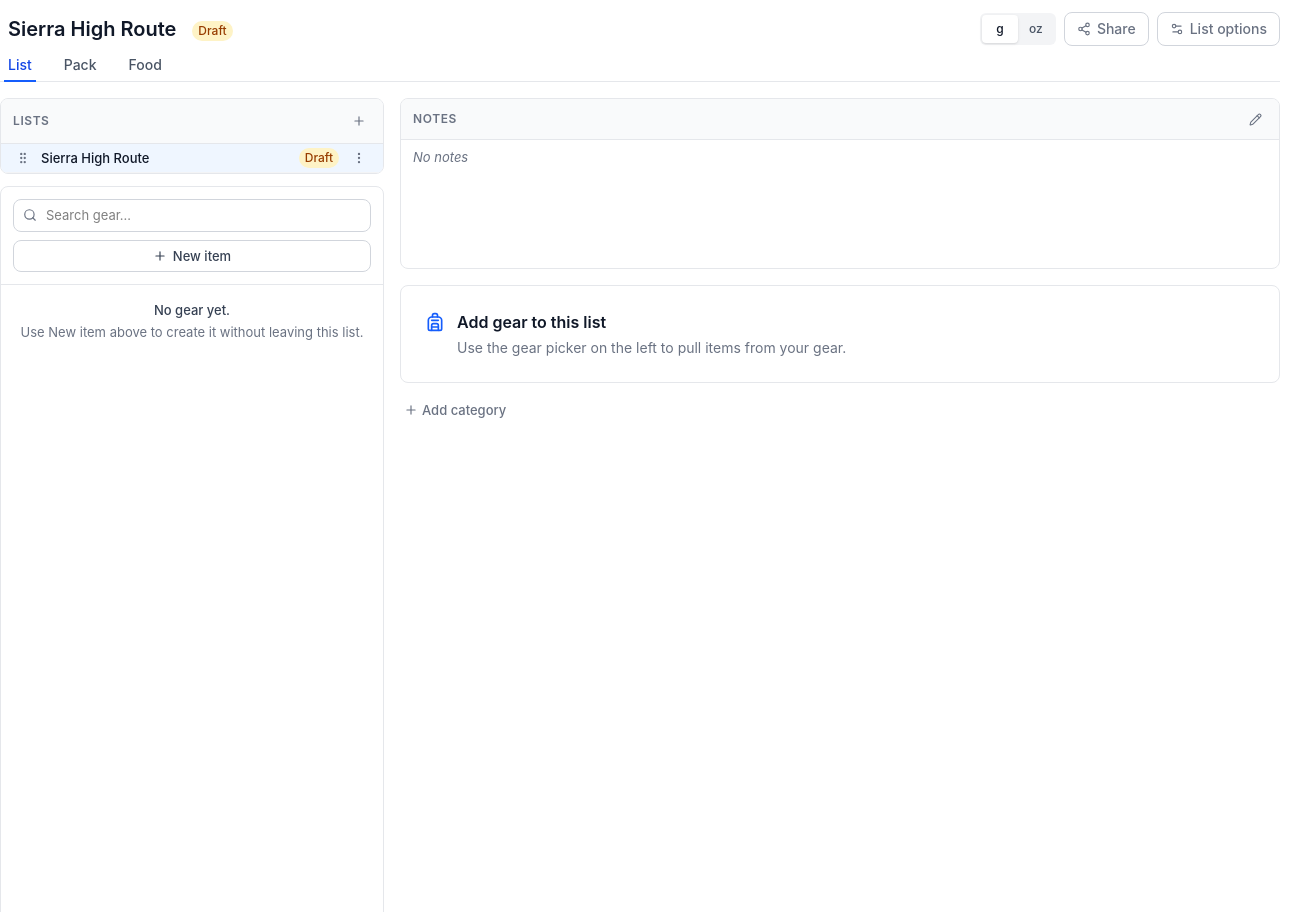
Test: in-list category creation › a starter category does not blank Pack’s empty state
The width and height of the screenshot is (1292, 912).
Check: the heading "Add gear to this list" is shown, box [457,312,606,332]
Click the button "Add category": (455, 410) [400,395,510,426]
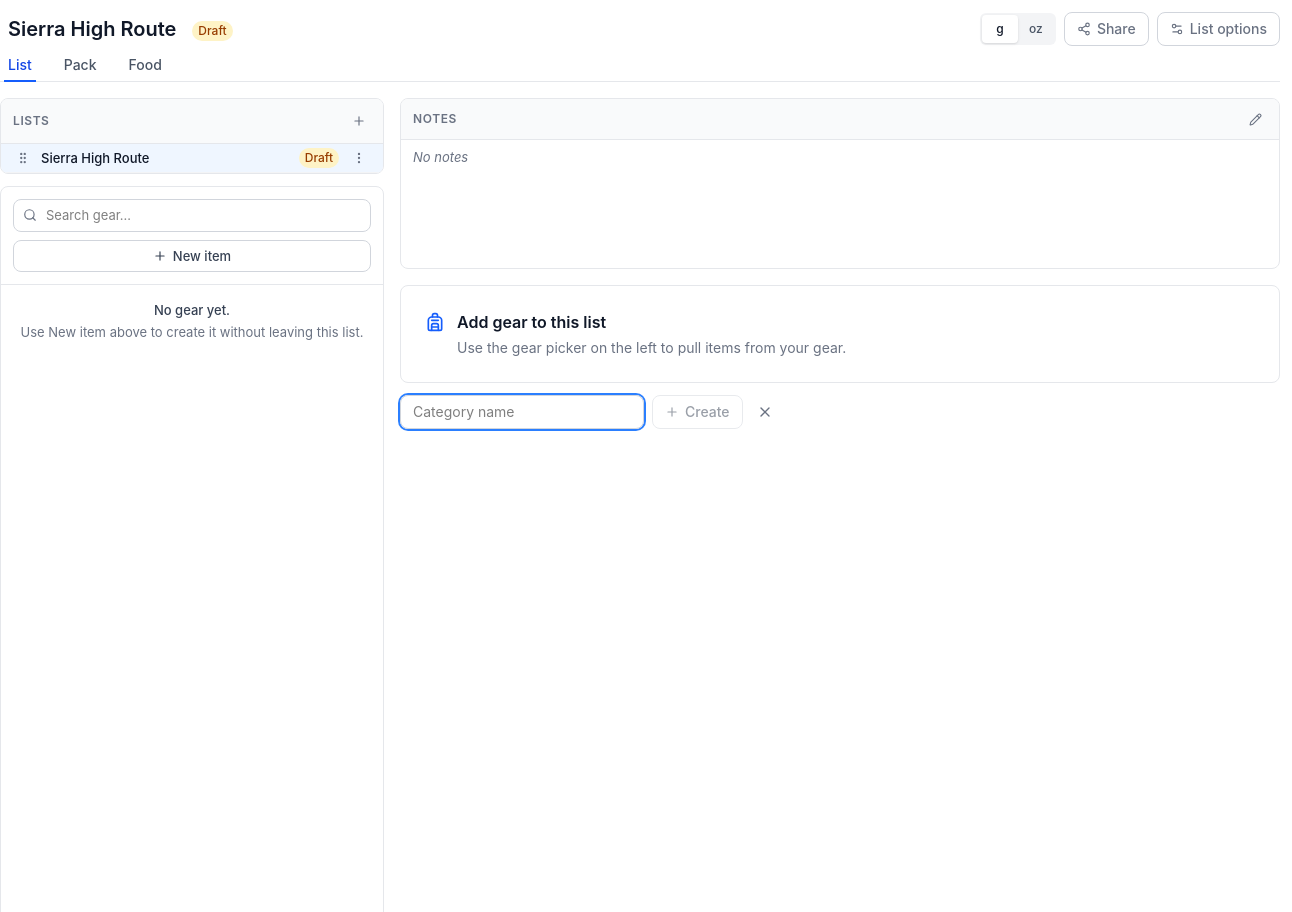
In the field labelled "Category name": (522, 412) [400,395,644,429], type "Shelter"
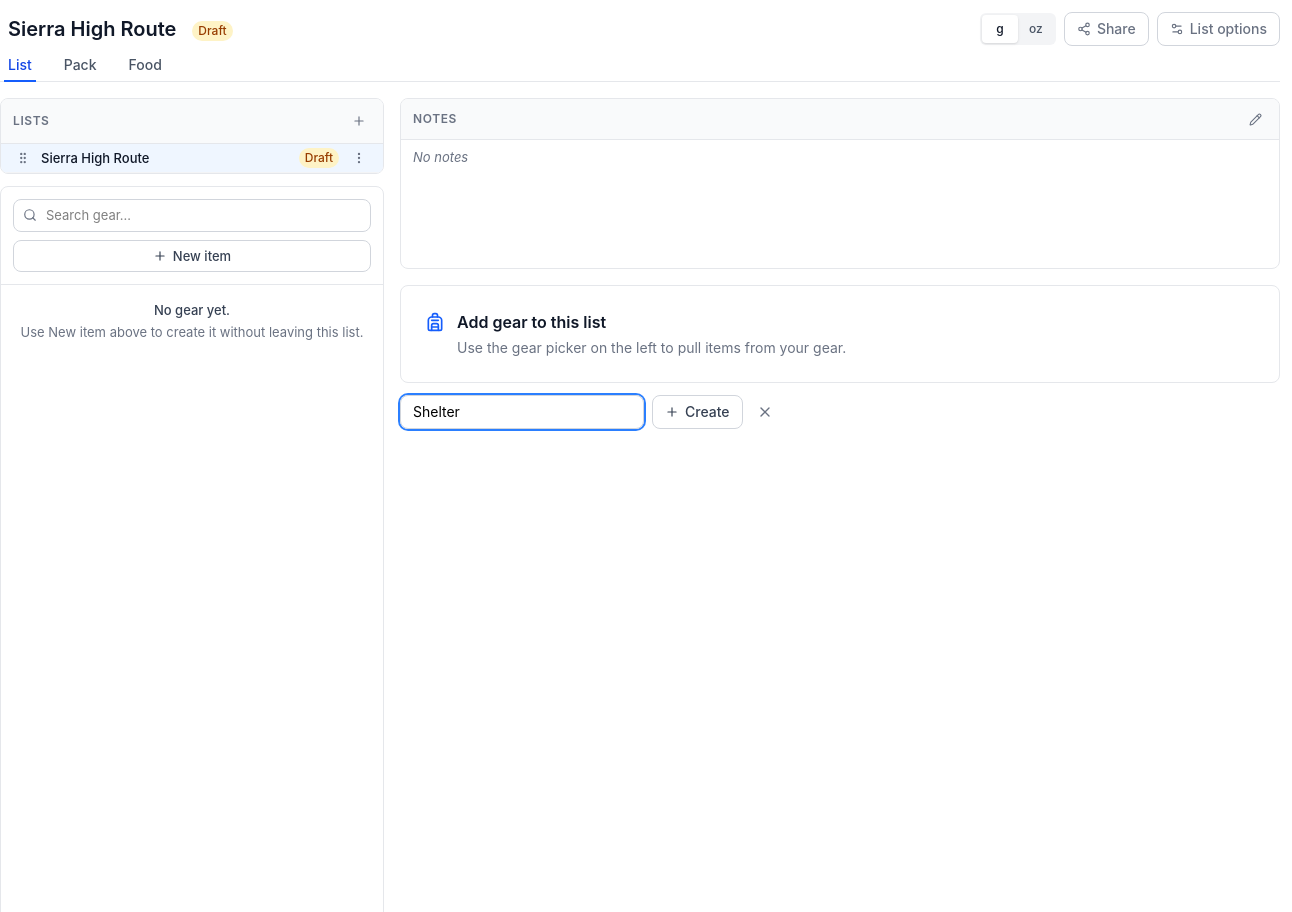
Press Enter in the field named "Category name", box [400,395,644,429]
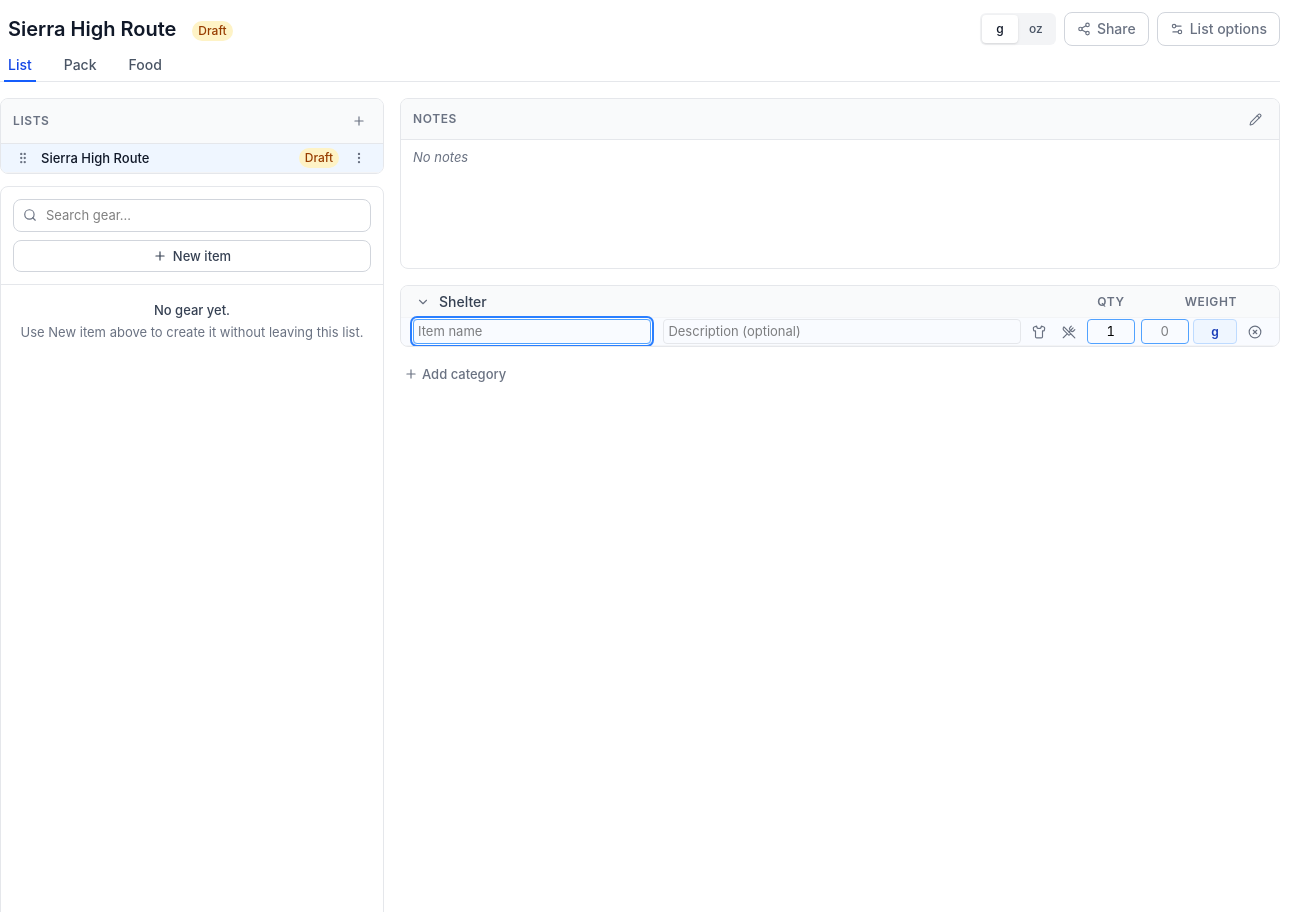
Check: the field with placeholder "Item name" is shown, box [413,319,651,344]
Click the link "Pack": (80, 64) [64,56,97,73]
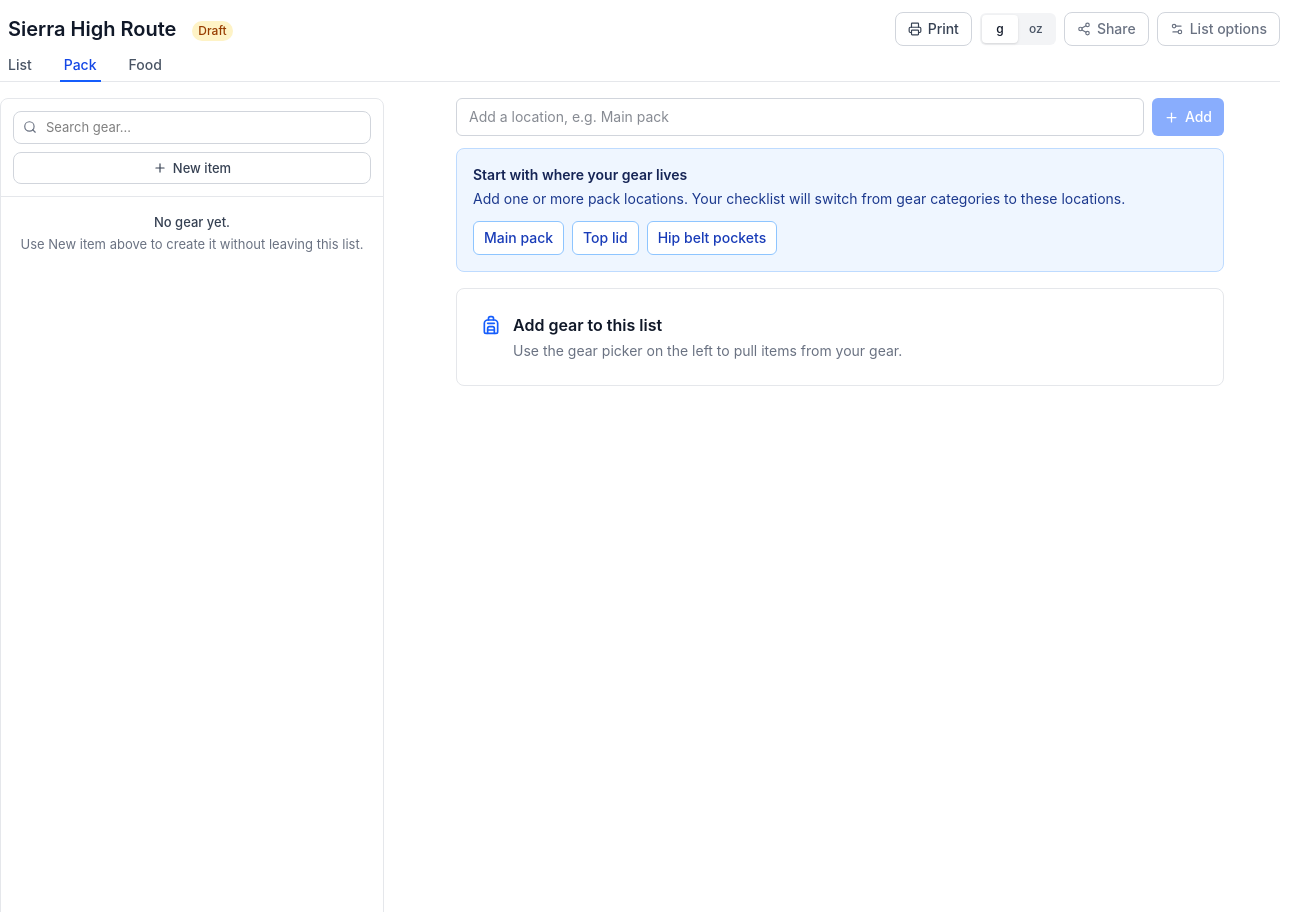
Check: the heading "Add gear to this list" is shown, box [513,315,662,335]
